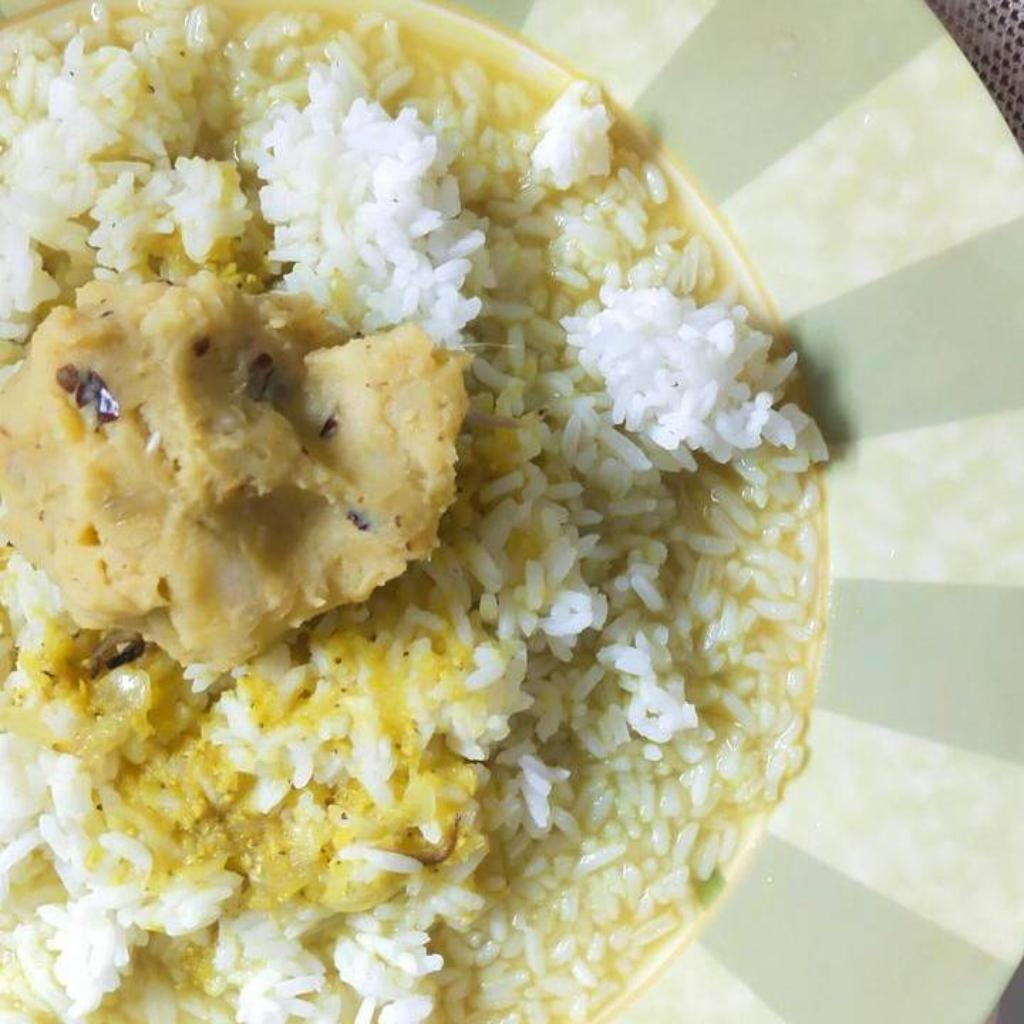potato-mashed: (0, 289, 473, 666)
rice: (0, 0, 839, 1023)
